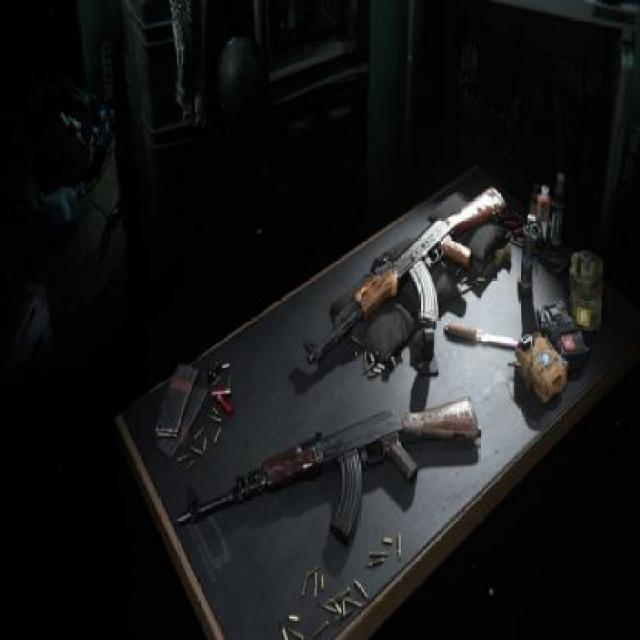Grenade: (518, 212, 542, 297)
Knife: (442, 318, 522, 352)
Rifle: (176, 394, 482, 550), (302, 182, 506, 368)
